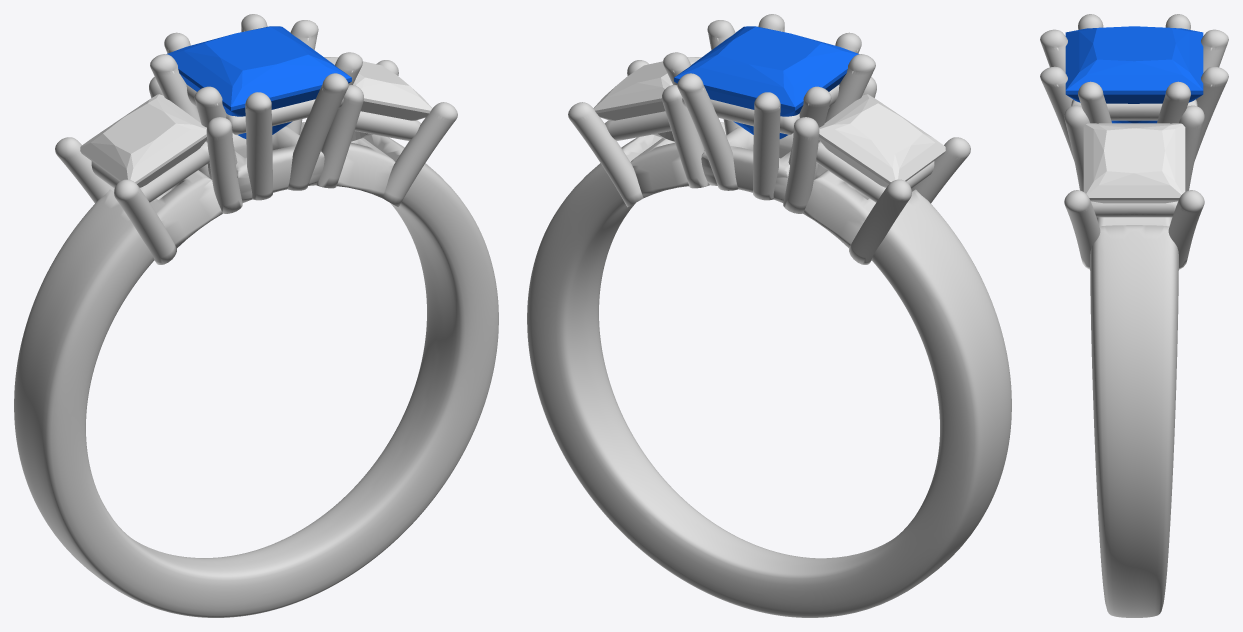
The model's file is bluesapphire-princess-platinum-8prong-straighttaperedband-3stone.glb.
The picture shows the model from 3 angles, left to right: view 1: azimuth 30°, elevation 25°; view 2: azimuth 150°, elevation 25°; view 3: azimuth 270°, elevation 25°; orthographic projection.
Visible parts, largest first — view 1: metal, stone, side, side.001; view 2: metal, stone, side, side.001; view 3: metal, stone, side.001.
Boxes of the visible parts, box(x1,y1,x2,y2) form: metal: box(14, 14, 498, 617); stone: box(166, 26, 351, 138); side: box(80, 94, 206, 187); side.001: box(324, 57, 432, 141); metal: box(527, 14, 1011, 617); stone: box(674, 26, 859, 138); side: box(819, 94, 945, 187); side.001: box(593, 57, 701, 141); metal: box(1040, 14, 1228, 617); stone: box(1065, 26, 1203, 123); side.001: box(1083, 123, 1185, 203).
Bounding box in the file's own units: 20.51 × 23.86 × 7.42.
